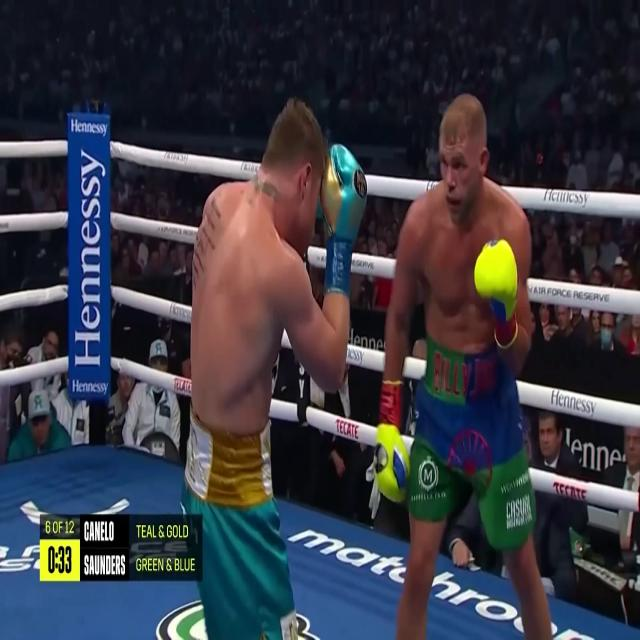boxer_1: (425, 94, 502, 350)
boxer_2: (191, 101, 324, 436)
gloves_1: (474, 240, 518, 350), (374, 381, 409, 504)
gloves_2: (315, 144, 368, 299)
